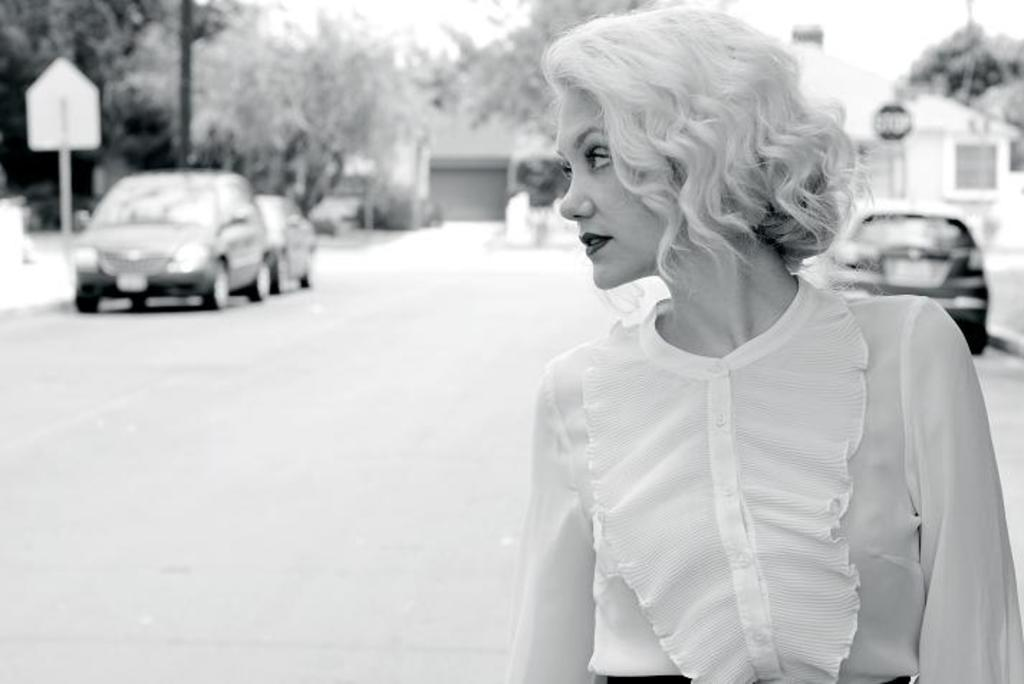Car: (73, 168, 272, 317), (817, 204, 989, 356), (252, 193, 318, 293)
